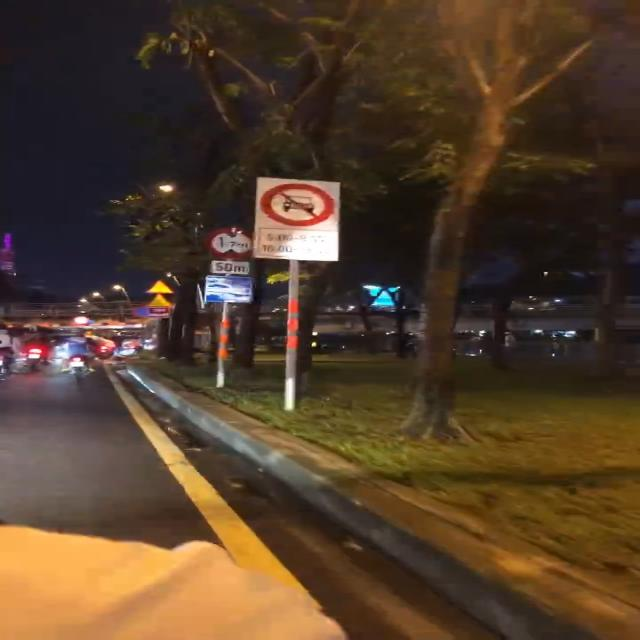Bien bao cam xe oto: (260, 174, 342, 226)
